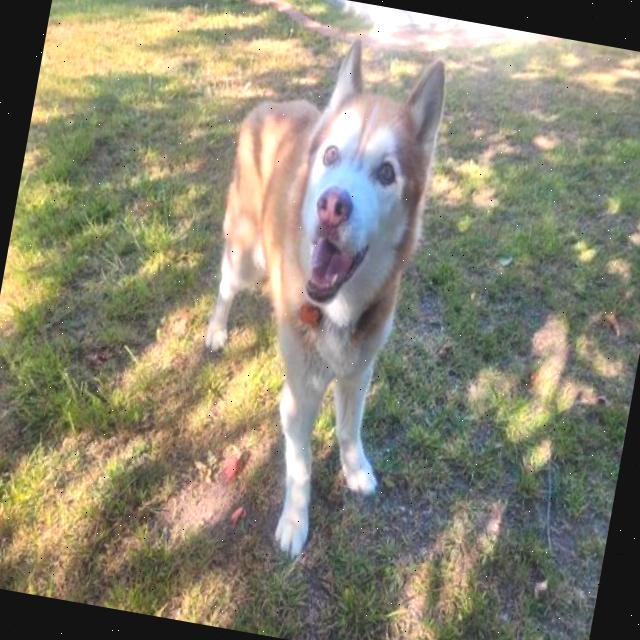siberian_husky_dog: (268, 17, 457, 340)
